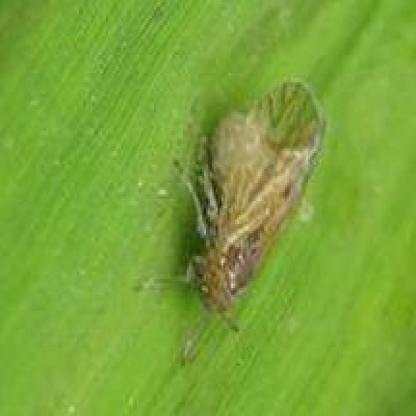brown-planthopper: (174, 73, 336, 333)
